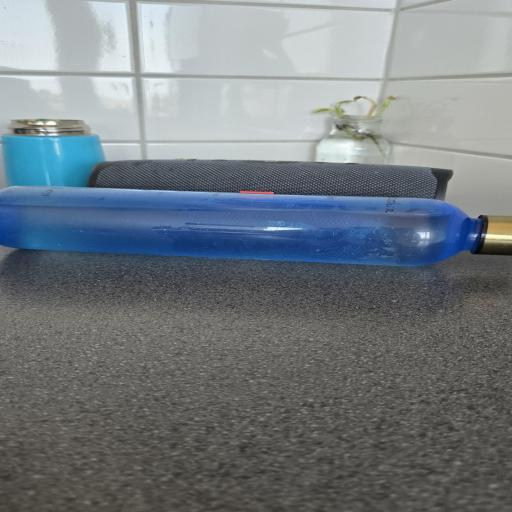bottle: (8, 181, 512, 270)
